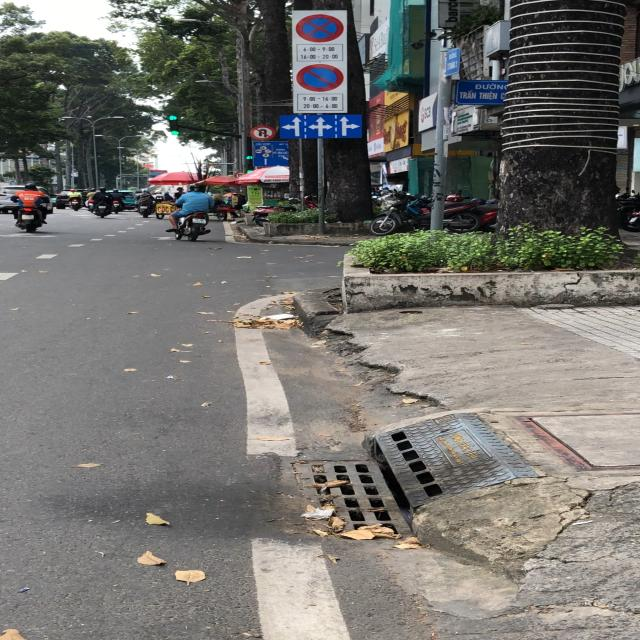Bien bao cam do xe: (295, 63, 345, 93)
Bien bao cam dung xe va do xe: (293, 13, 344, 44)
Bien bao cam quay dau xe: (248, 124, 278, 142)
